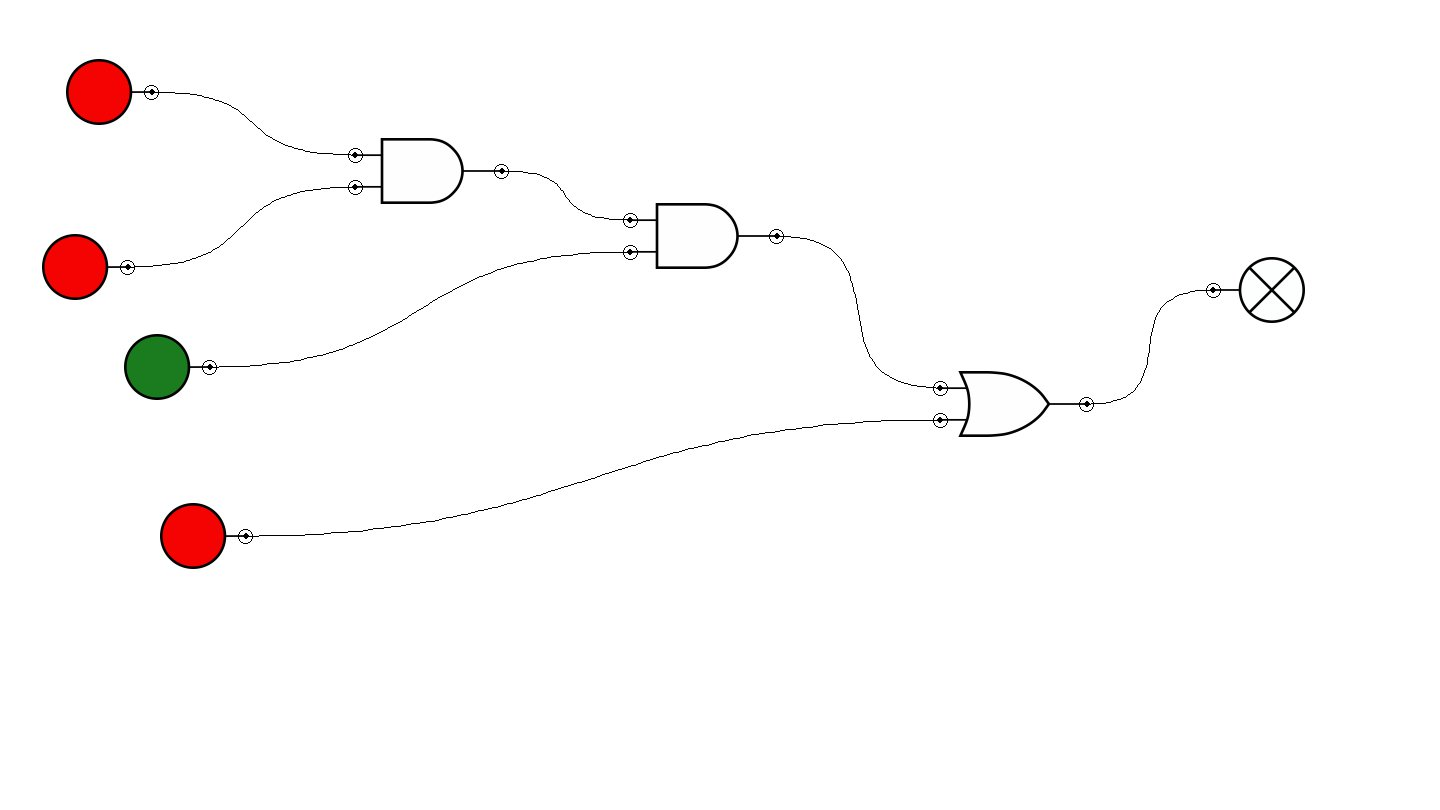and: (348, 138, 509, 204), (623, 203, 784, 269)
bulb: (1206, 257, 1305, 323)
or: (933, 371, 1094, 437)
switch_False: (160, 503, 253, 569), (42, 234, 135, 300), (66, 59, 159, 125)
switch_True: (124, 334, 217, 400)
